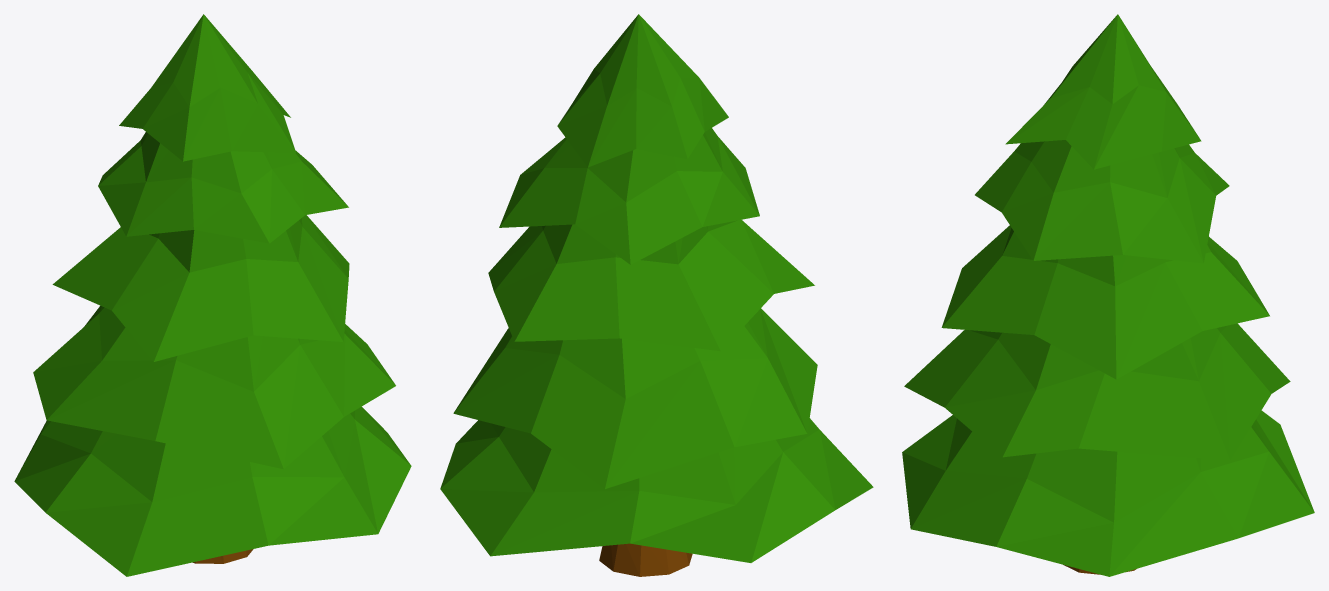
The model's file is sapin.dae.
3 views of the same model, side by side, from view 1: azimuth 30°, elevation 25°; view 2: azimuth 150°, elevation 25°; view 3: azimuth 270°, elevation 25° (orthographic). The views are drawn at different scales.
Visible parts, largest first — view 1: cassay; view 2: cassay; view 3: cassay.
Part boxes in pixels (<box>): cassay: <box>14,14,411,576</box>; cassay: <box>440,14,873,576</box>; cassay: <box>902,14,1314,576</box>.
Size of the model in its own units: 7.77 by 7.65 by 11.07.
2 materials, 2 textured.
